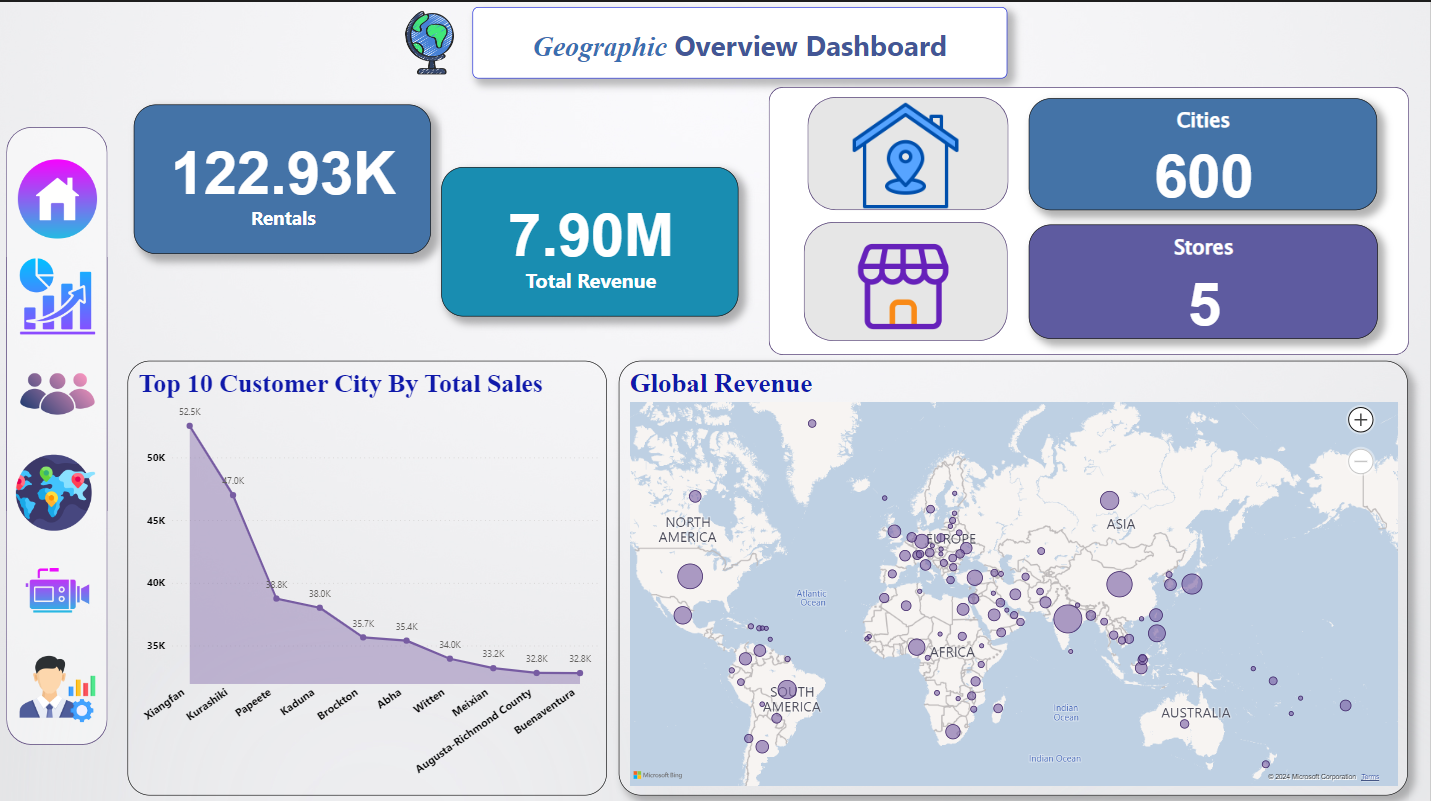

The dashboard page shown, as its layout file describes it:
{"tool":"tableau","page":{"name":"Geography","canvas":[1920,1080],"ordinal":3},"visuals":[{"type":"worksheet","title":"Top Countries Revenue","mark":"Automatic","rows":["customerCity"],"cols":["paymentAmount"],"box":[1147,8,772,775]},{"type":"worksheet","title":"Film Category","mark":"Automatic","box":[439,17,695,301]},{"type":"worksheet","title":"Renatals","mark":"Automatic","box":[165,25,244,135]},{"type":"worksheet","title":"Revenue","mark":"Automatic","box":[149,172,253,130]},{"type":"worksheet","title":"Global map","mark":"Automatic","box":[60,324,1085,459]},{"type":"dashboard-object","box":[734,823,185,123]},{"type":"dashboard-object","box":[1017,828,180,123]},{"type":"dashboard-object","box":[1298,828,180,123]},{"type":"dashboard-object","box":[1579,828,180,123]},{"type":"dashboard-object","box":[455,830,180,123]},{"type":"dashboard-object","box":[178,834,175,122]}]}

Visuals, with their boxes in screenshot pixels (x1, y1, x2, y2), scaled from the page's 1920x1080 canvas onto the 1431x801 screenshot:
"Top Countries Revenue" worksheet: 855, 6, 1430, 581
"Film Category" worksheet: 327, 13, 845, 236
"Renatals" worksheet: 123, 19, 305, 119
"Revenue" worksheet: 111, 128, 300, 224
"Global map" worksheet: 45, 240, 853, 581
dashboard-object: 547, 610, 685, 702
dashboard-object: 758, 614, 892, 705
dashboard-object: 967, 614, 1102, 705
dashboard-object: 1177, 614, 1311, 705
dashboard-object: 339, 616, 473, 707
dashboard-object: 133, 619, 263, 709
